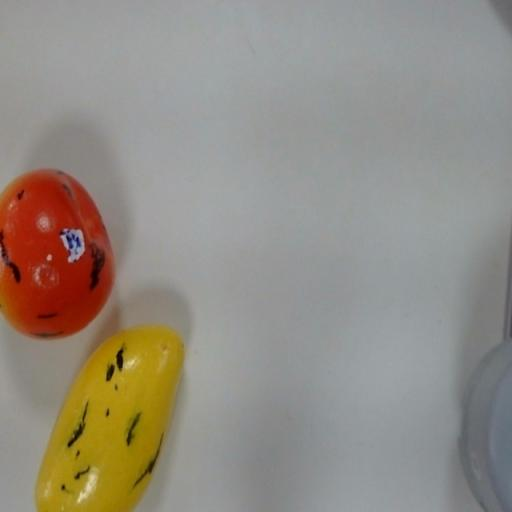Defective: (30, 323, 198, 512), (0, 147, 120, 344)
